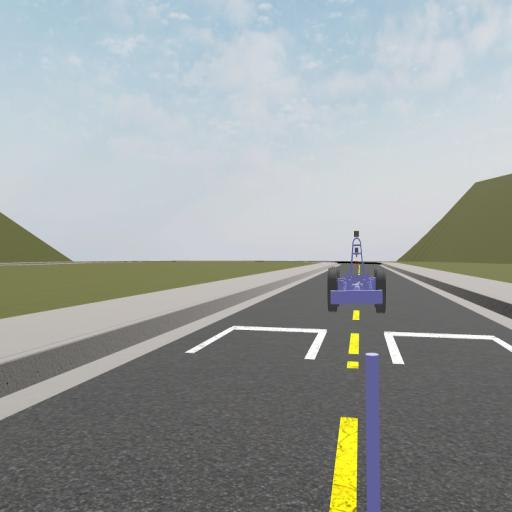ERP-42: (326, 229, 386, 312)
